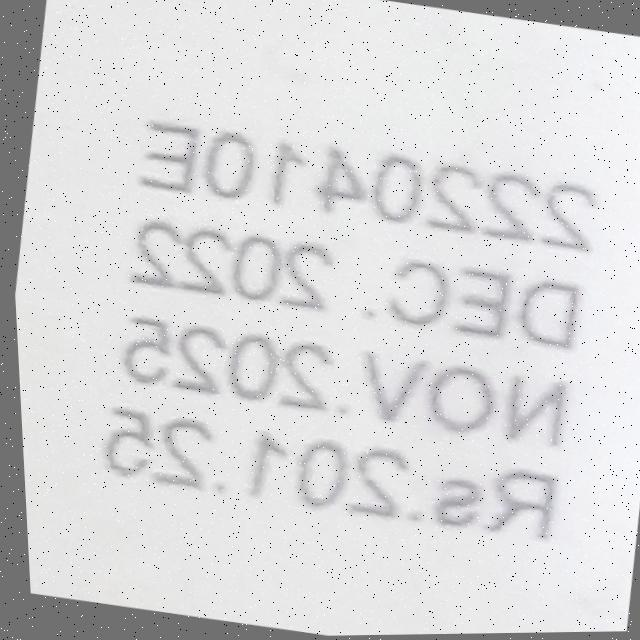sentence: (98, 406, 552, 541), (138, 121, 593, 254), (119, 317, 564, 449), (129, 220, 576, 350)
